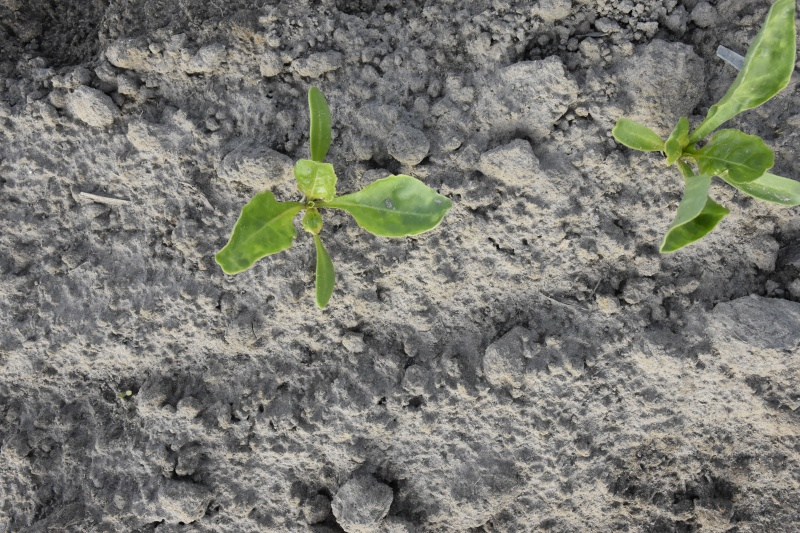sugar beet: (212, 80, 457, 321), (611, 4, 800, 251)
